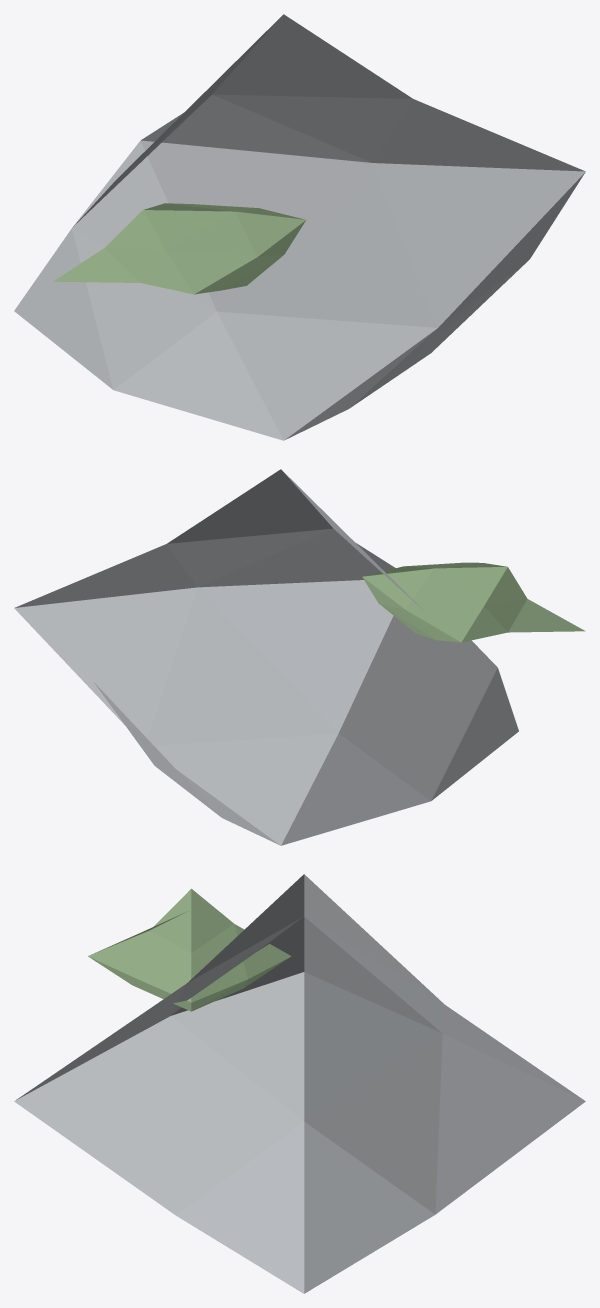
The model's file is boulder_v23.glb.
3 views of the same model, one above another, from view 1: azimuth 30°, elevation 25°; view 2: azimuth 150°, elevation 25°; view 3: azimuth 270°, elevation 25° (orthographic). The views are drawn at different scales.
Visible parts, largest first — view 1: lod0; view 2: lod0; view 3: lod0.
Boxes of the visible parts, x1,y1,x2,y2 form: lod0: (14,14,585,440); lod0: (14,469,585,845); lod0: (14,874,585,1293).
Size of what is drawn, in the model's own units: 3.09 by 2.14 by 2.64.
